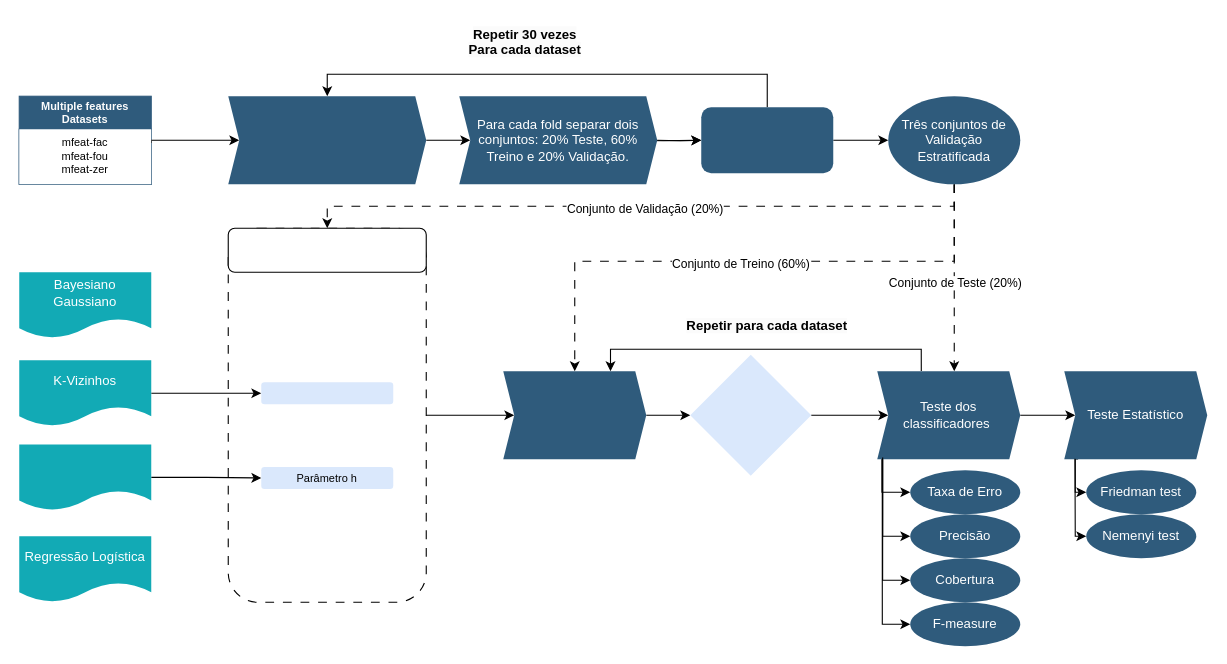
Some shapes in this 1227 by 664 pixel diagram are drawn without their labels. The box of each missing label's shape, as (x1, y1, x2, y2) in pixels:
Divisão de 10 folds com 200 amostras aleatórias (20 amostras de cada classe): (228, 96, 426, 184)
Hiper-parametrização: (227, 227, 426, 272)
Janela de Parzen: (19, 444, 151, 510)
Número de Vizinhos k: (261, 382, 393, 404)
Regra do Voto Marjoritário: (690, 354, 811, 475)
Salvar conjuntos de dados: (701, 107, 833, 173)
Treinamento dos classificadores: (503, 371, 646, 459)
